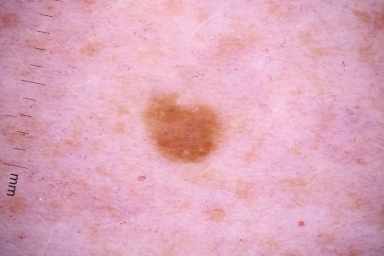nevus: (143, 99, 224, 164)
